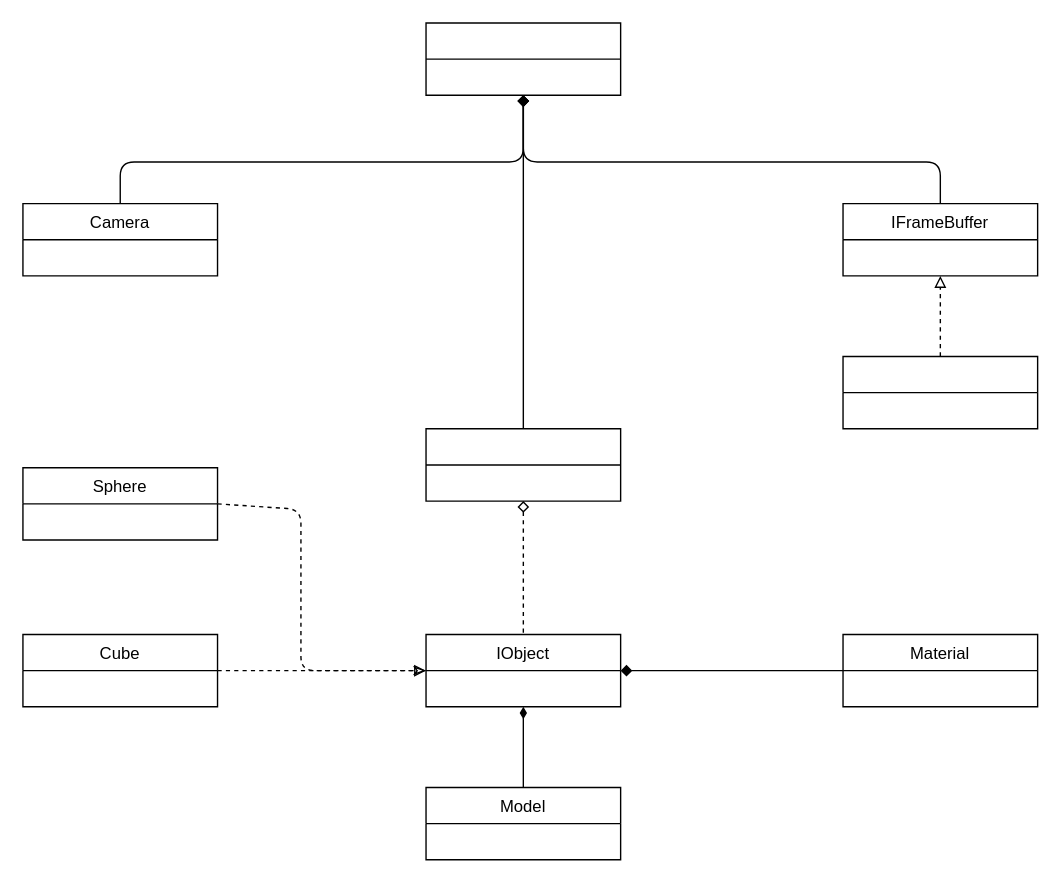
This 1061x883 diagram has some shape labels left out. The shapes that lost their labels are listed below. From the top down, each one's box as (x1, y1, x2, y2) in pixels, then its label:
(425, 22, 621, 95): Application
(842, 355, 1038, 429): FrameBuffer
(425, 427, 621, 501): Scene
